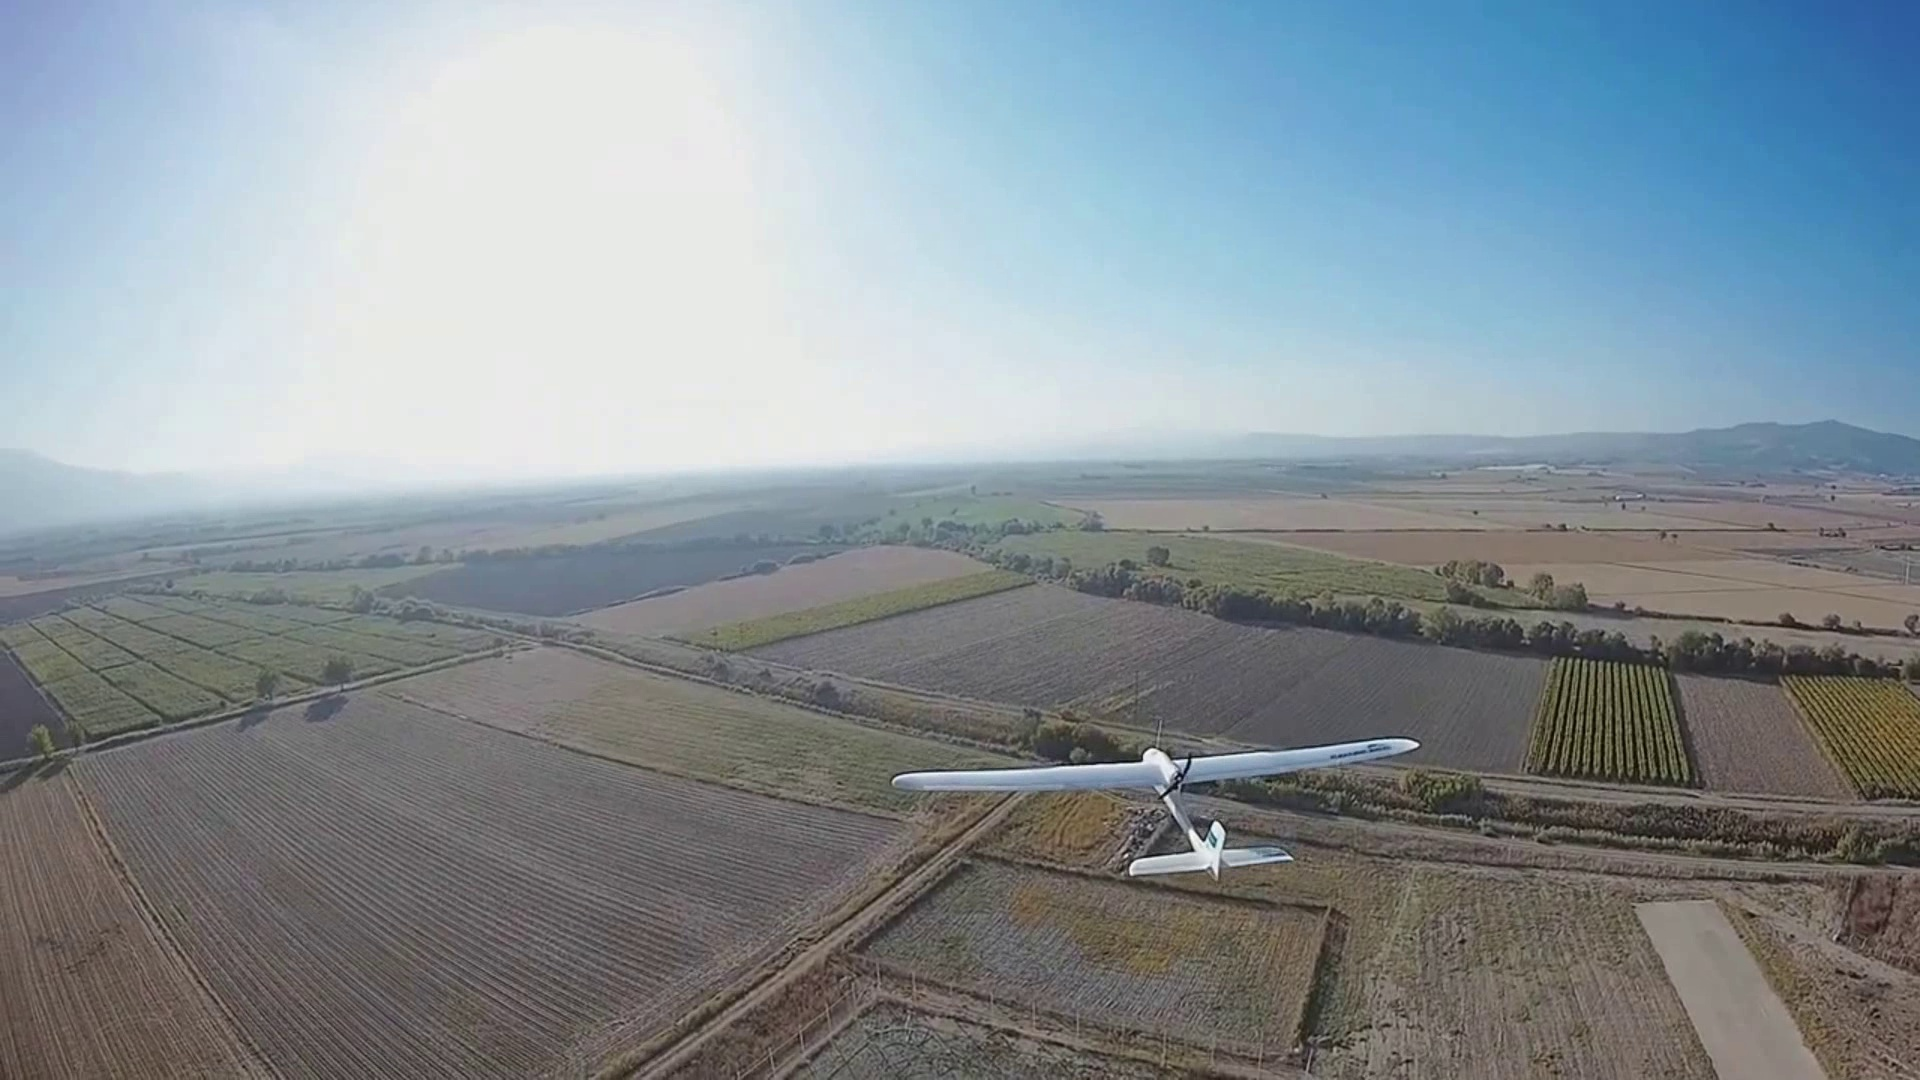airplane: (887, 731, 1422, 881)
